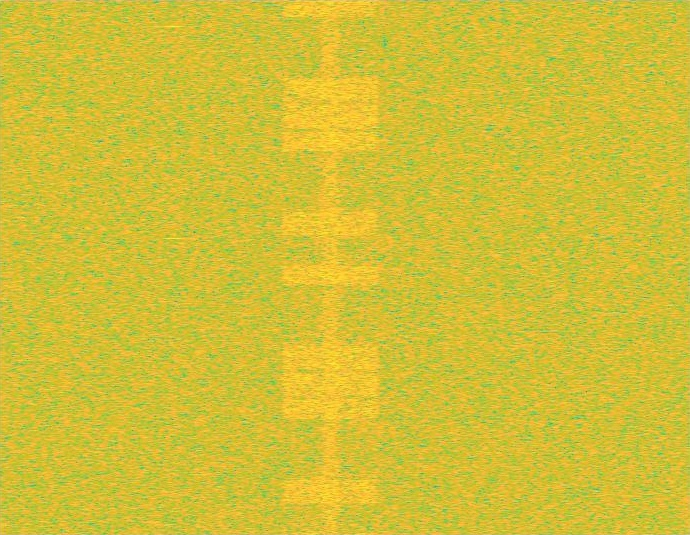DSSS: (319, 0, 342, 534)
LTE: (279, 0, 382, 534)
Radar: (167, 0, 181, 534)
